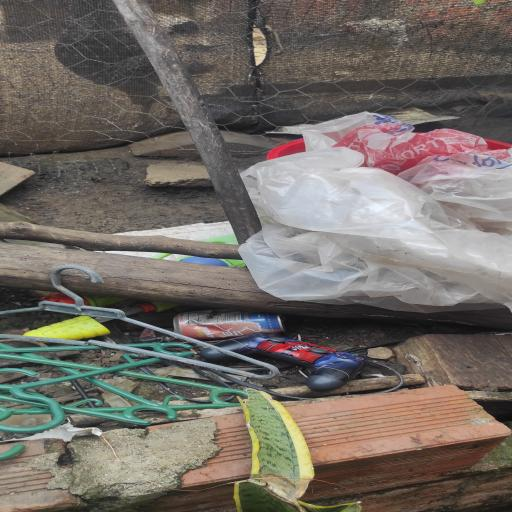ControlPlay4: (216, 334, 367, 391), (200, 348, 227, 362)
